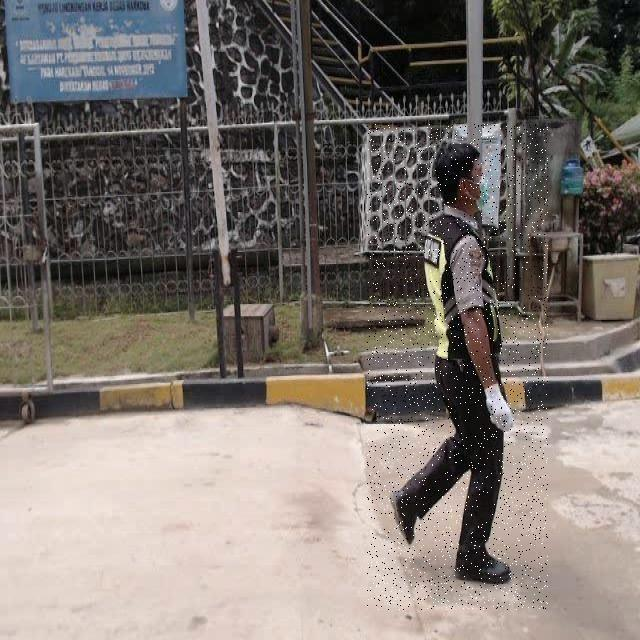Boots: (452, 542, 512, 589), (389, 481, 422, 548)
Person: (367, 125, 548, 610)
Vest: (425, 212, 504, 368)
